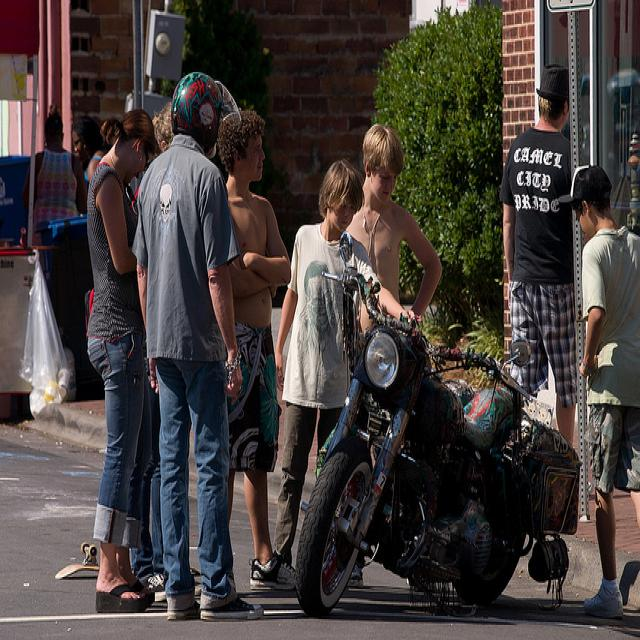motor: (297, 233, 535, 614)
